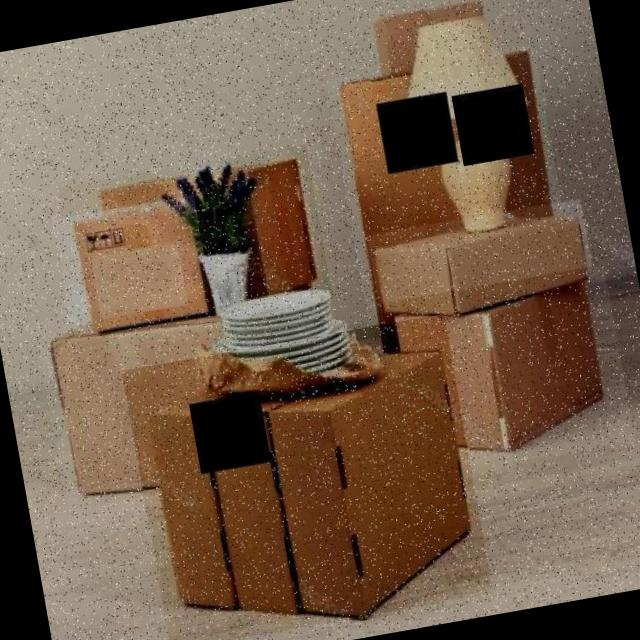box: (121, 314, 493, 640), (326, 44, 582, 360), (34, 288, 260, 538), (380, 264, 634, 480), (56, 143, 331, 334), (366, 198, 597, 332), (52, 194, 218, 363), (357, 0, 494, 94)
